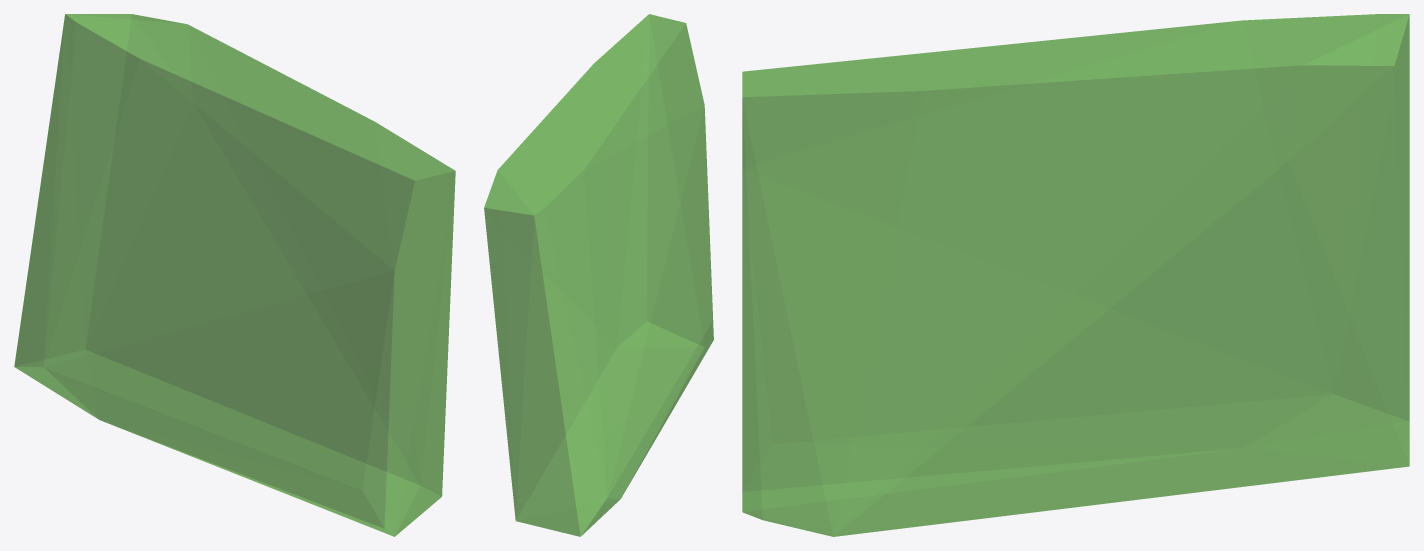
3 views of the same model, side by side, from view 1: azimuth 30°, elevation 25°; view 2: azimuth 150°, elevation 25°; view 3: azimuth 270°, elevation 25° (orthographic). The views are drawn at different scales.
Visible parts, largest first — view 1: Shape_IndexedFaceSet.057_Shape_IndexedFaceSet.14090; view 2: Shape_IndexedFaceSet.057_Shape_IndexedFaceSet.14090; view 3: Shape_IndexedFaceSet.057_Shape_IndexedFaceSet.14090.
Part boxes in pixels (x1,y1,x2,y2): Shape_IndexedFaceSet.057_Shape_IndexedFaceSet.14090: [14, 14, 455, 536]; Shape_IndexedFaceSet.057_Shape_IndexedFaceSet.14090: [484, 14, 713, 536]; Shape_IndexedFaceSet.057_Shape_IndexedFaceSet.14090: [742, 14, 1409, 536].
Size of the model in its own units: 0.0602 by 0.1103 by 0.1472.
